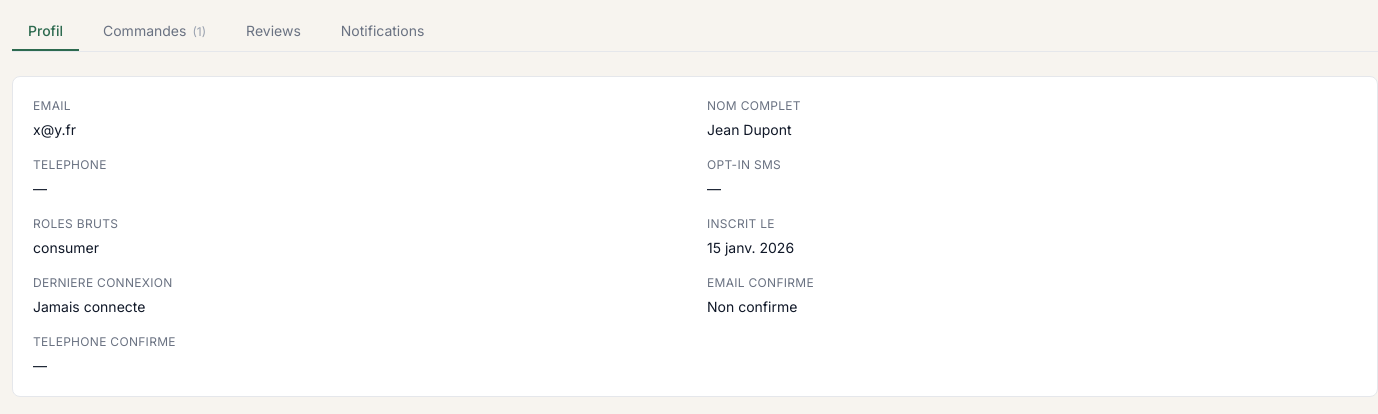
UserDetailTabs — clic onglet Commandes › clic Commandes -> panel commandes visible, profil non visible
Click the tab "Commandes(1)" at [155, 32], box [87,12,222,51]
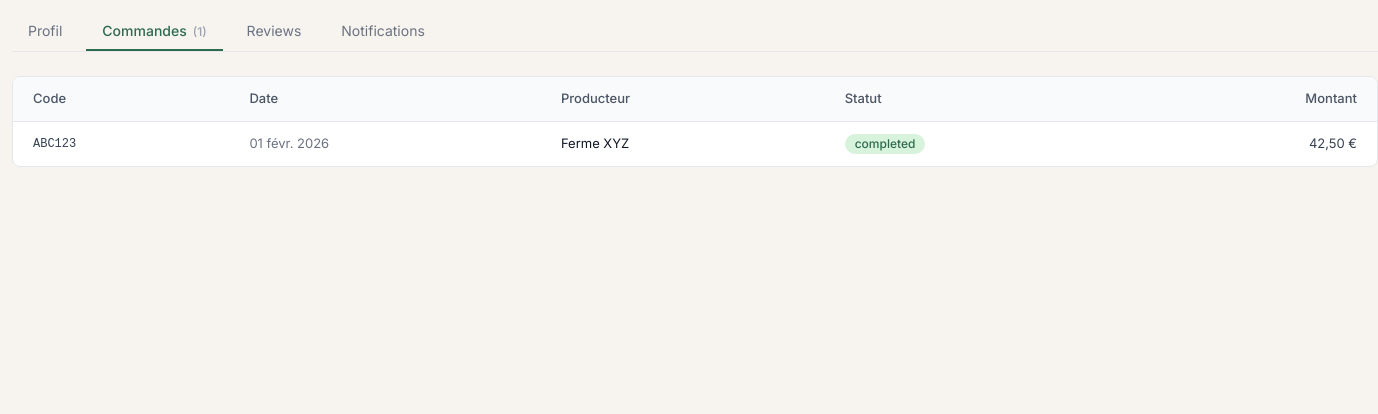
Check: the text "Ferme XYZ" is shown, box [541,121,825,166]
Check: the text "ABC123" is shown, box [13,121,229,166]
